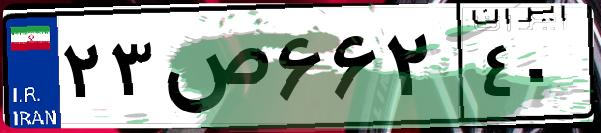0: (525, 38, 570, 115)
2: (385, 28, 445, 110), (57, 26, 110, 100)
3: (110, 28, 158, 98)
4: (475, 38, 525, 113)
6: (270, 28, 330, 110), (330, 28, 385, 110)
ص: (158, 20, 270, 120)
